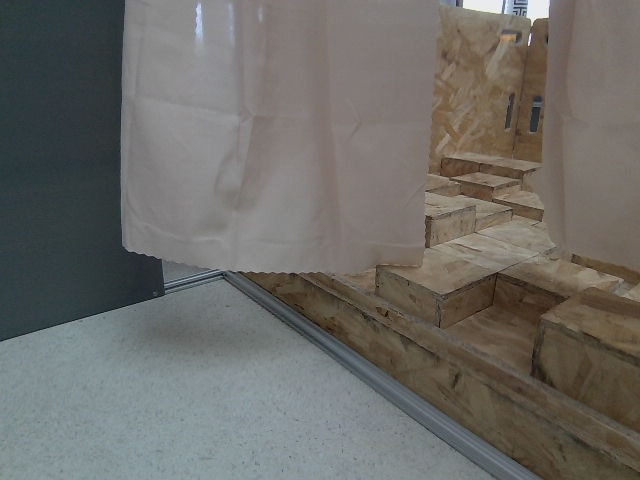curtain: (128, 0, 640, 269)
